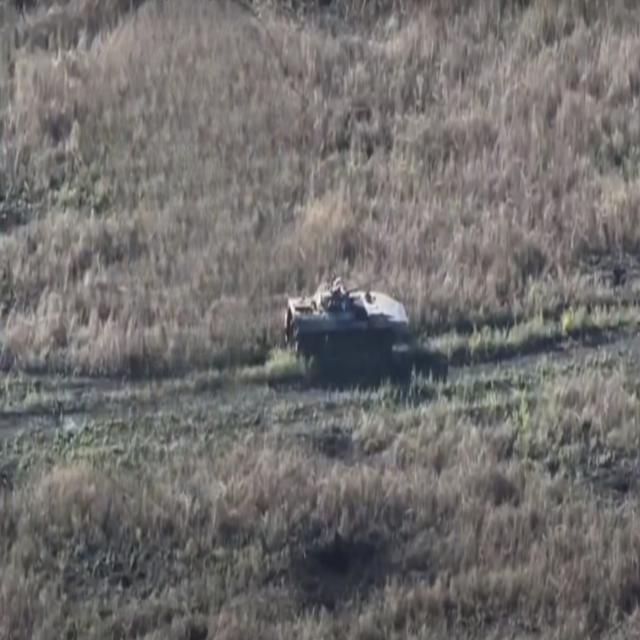AIFV: (287, 270, 413, 365)
